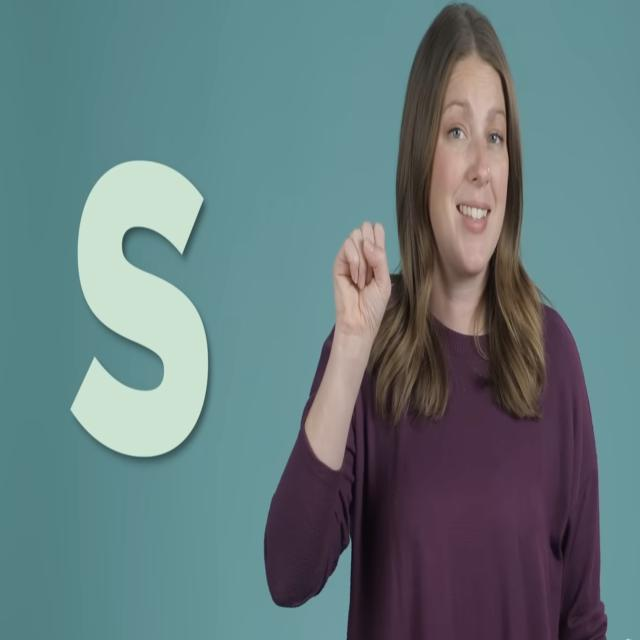S: (318, 209, 403, 344)
